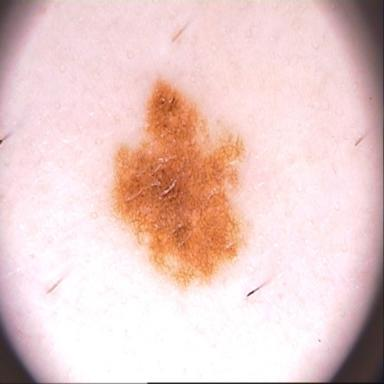nevus: (113, 81, 246, 287)
